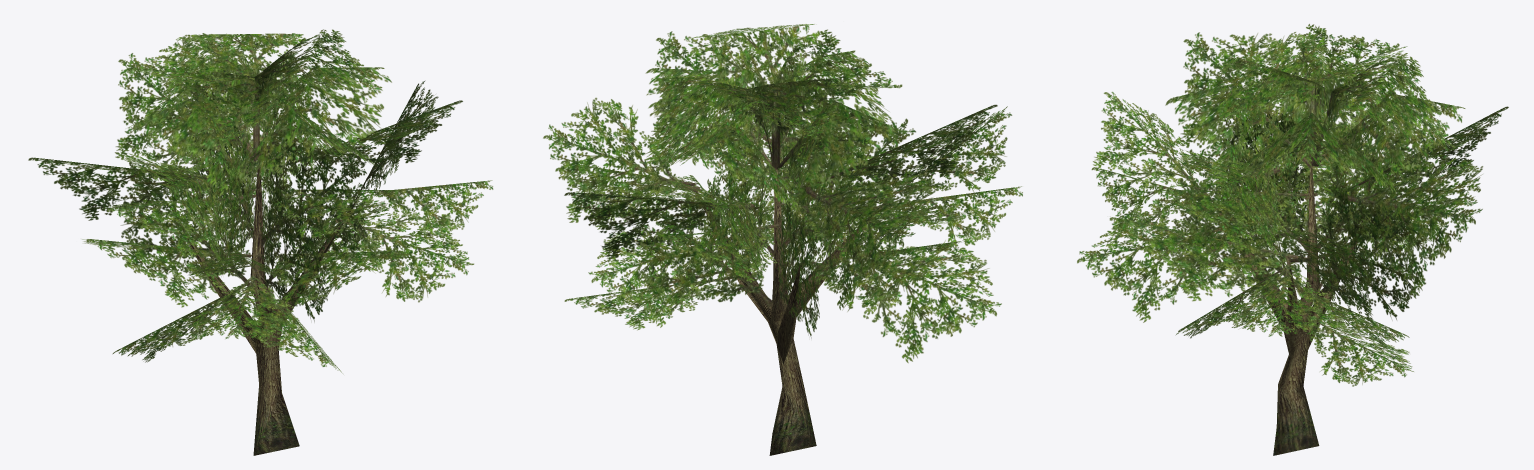
The model's file is ti_tree_02.glb.
3 renders of one model, left to right at view 1: azimuth 30°, elevation 25°; view 2: azimuth 150°, elevation 25°; view 3: azimuth 270°, elevation 25°, orthographic. The views are drawn at different scales.
Visible parts, largest first — view 1: TI_Tree_02; view 2: TI_Tree_02; view 3: TI_Tree_02.
Boxes of the visible parts, <box> form: TI_Tree_02: <box>28,29,493,455</box>; TI_Tree_02: <box>543,24,1022,455</box>; TI_Tree_02: <box>1077,24,1508,455</box>.
Bounding box in the file's own units: 8.52 × 7.52 × 7.93.
3 materials, 3 textured.
